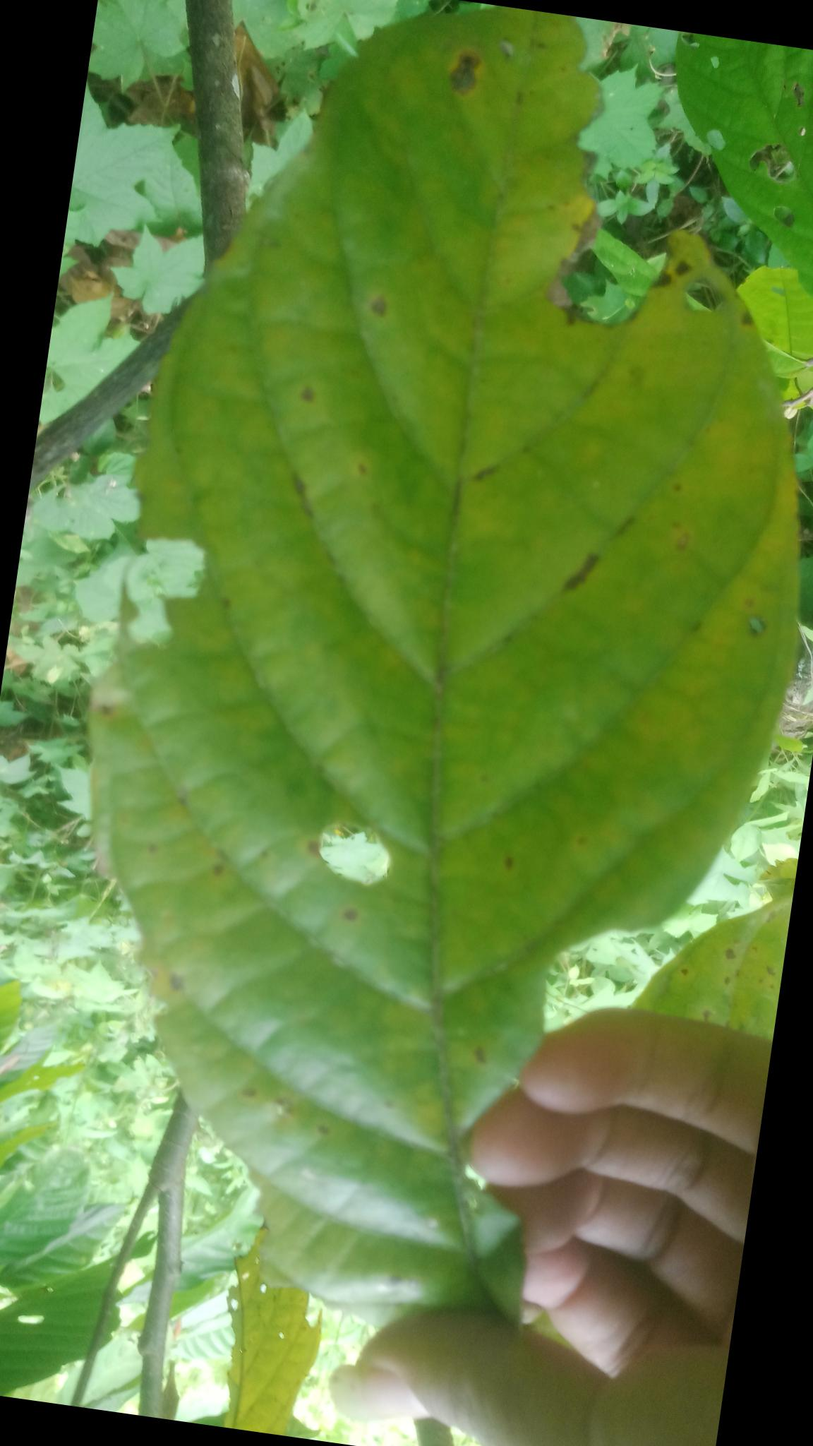Fosforo: (80, 2, 808, 1332)
